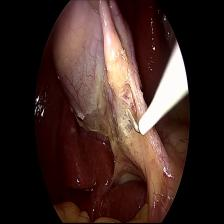Grasper: (126, 41, 188, 136)
